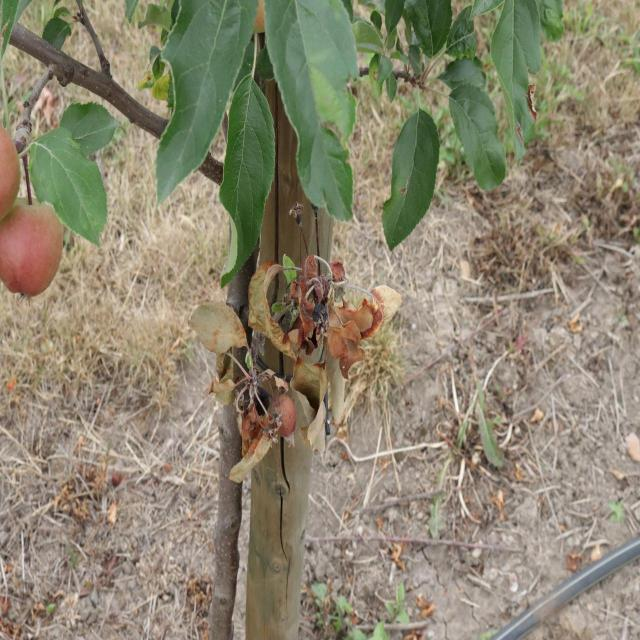-FireBlight-: (244, 261, 402, 366), (192, 309, 290, 459)
